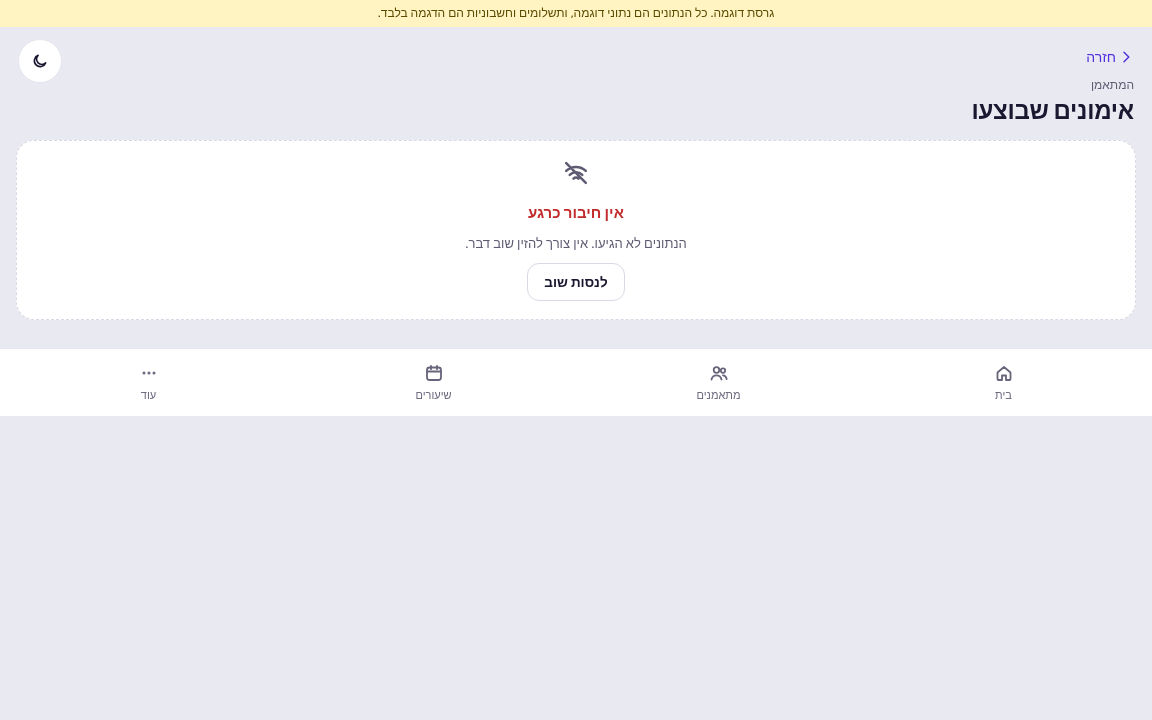
Scenario: blocker 2: S06 with the server out of reach says so and offers a retry, and never says there is none
The image size is (1152, 720).
Expected: the message shows "אין חיבור כרגע", [528,204,624,222]
Click the button "לנסות שוב".
click(576, 282)  # box [527,264,625,302]
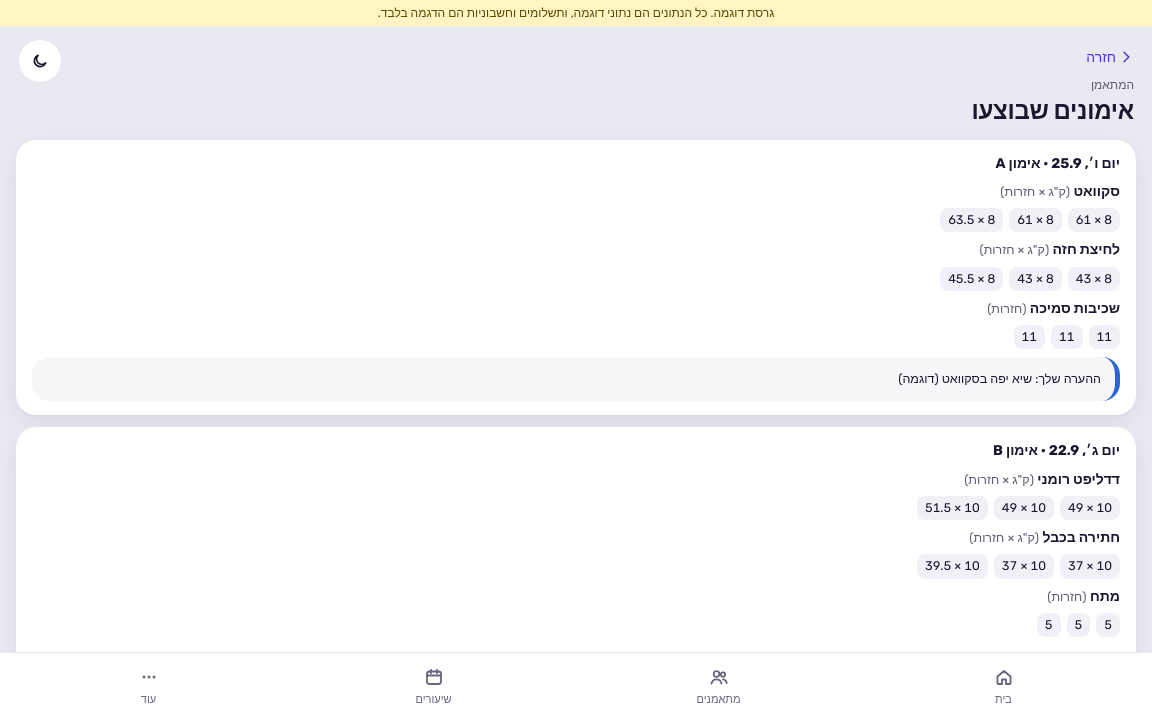
Expected: the message "אין חיבור כרגע הנתונים לא הגיעו. אין צורך להזין שוב דבר. לנסות שוב" is gone
